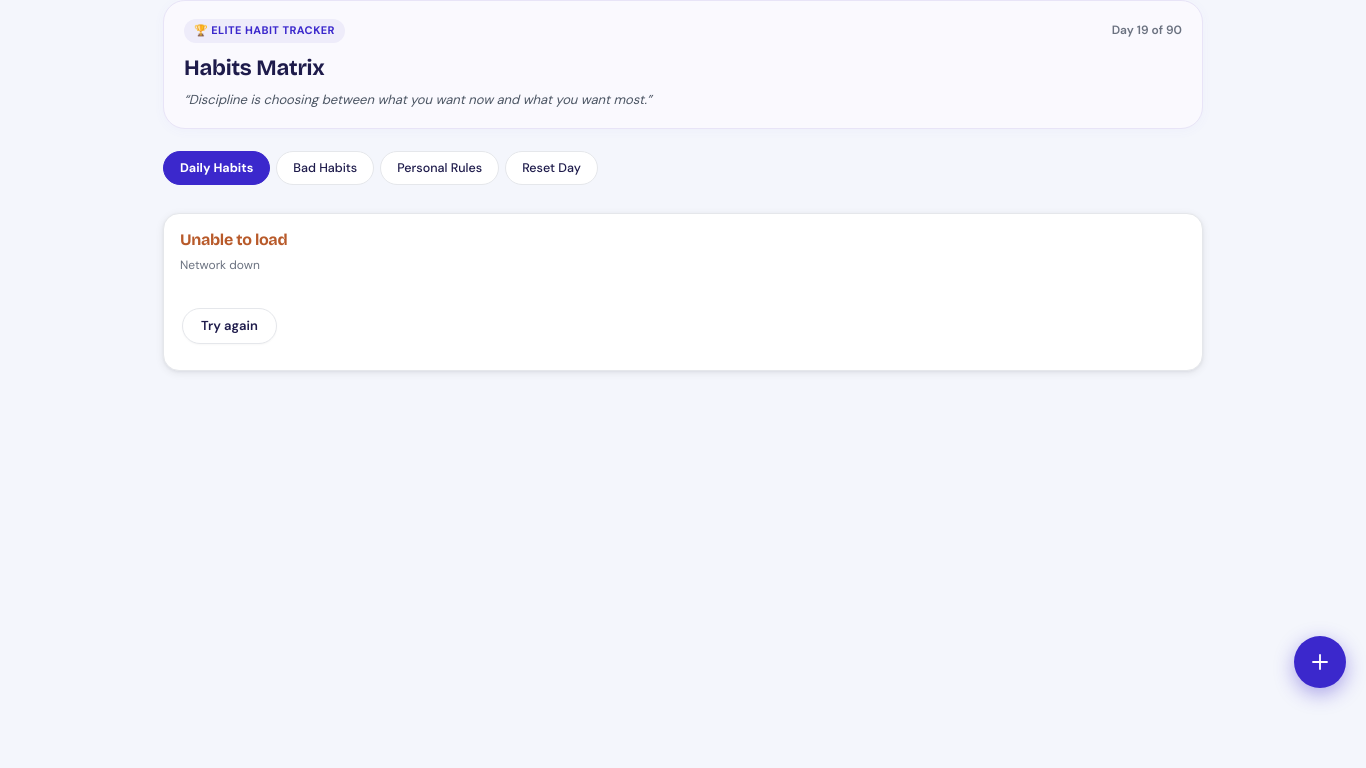
Core feature pages › renders Habits error state and retries loading
Expected: the text "Network down" is shown, [180, 257, 260, 273]
What coordinates should you click on to do the following:
click the button "Try again"
I would click on:
 (229, 326)
Its box is [182, 308, 277, 344].
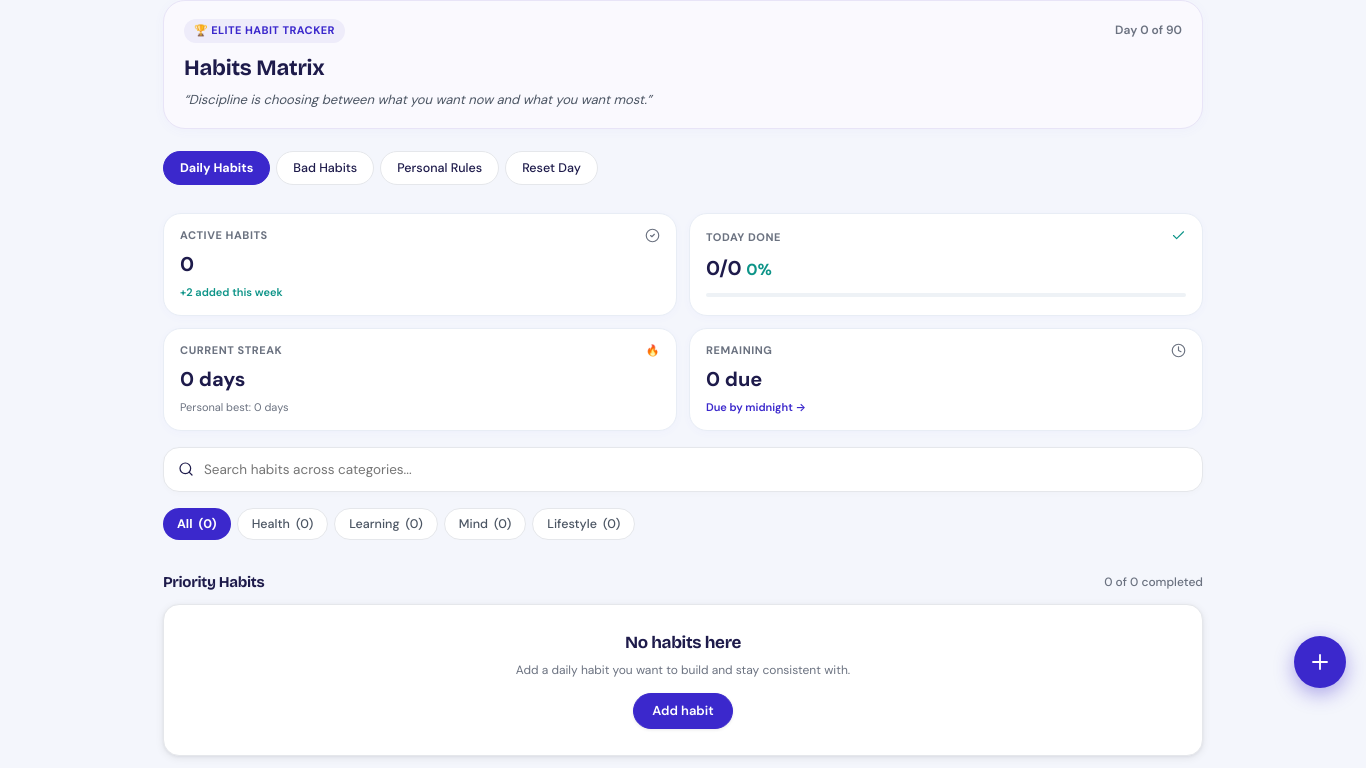
Result: the text "No habits here" is shown at [625, 632, 741, 653]
